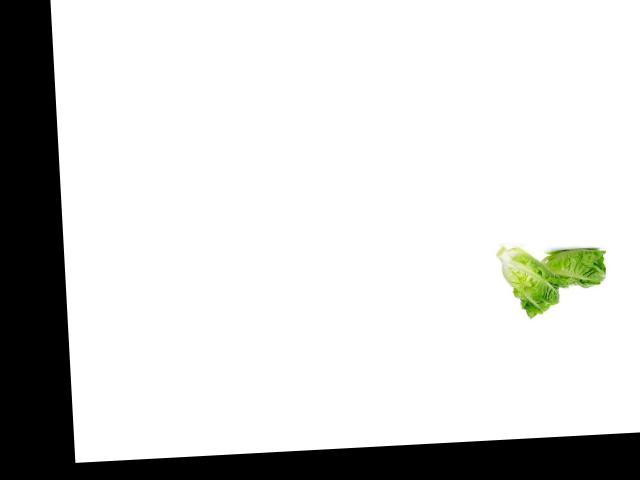lettuce: (494, 238, 568, 317)
